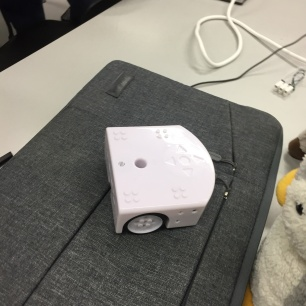thymio: (96, 120, 218, 242)
